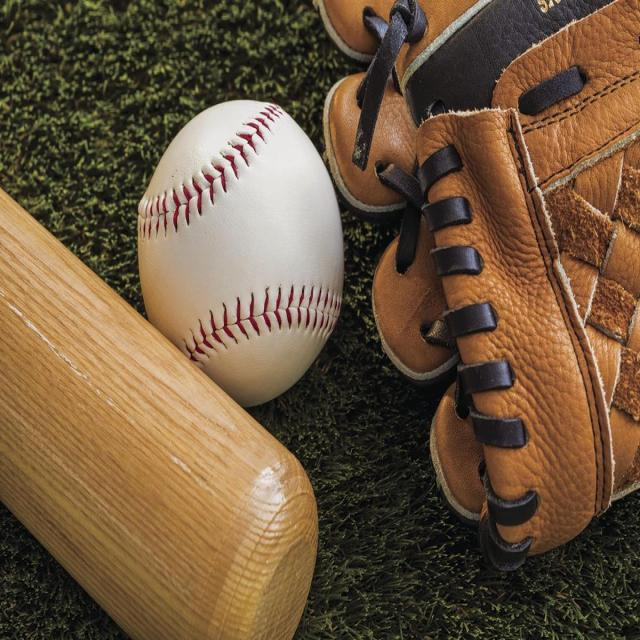baseball: (142, 96, 344, 412)
